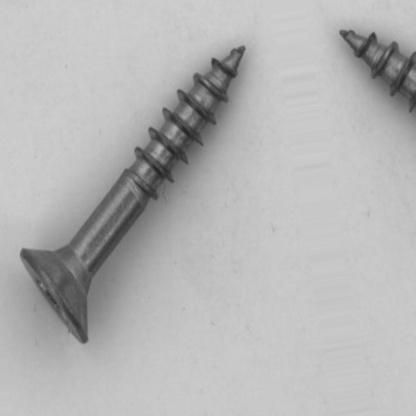metal: (17, 45, 244, 347)
